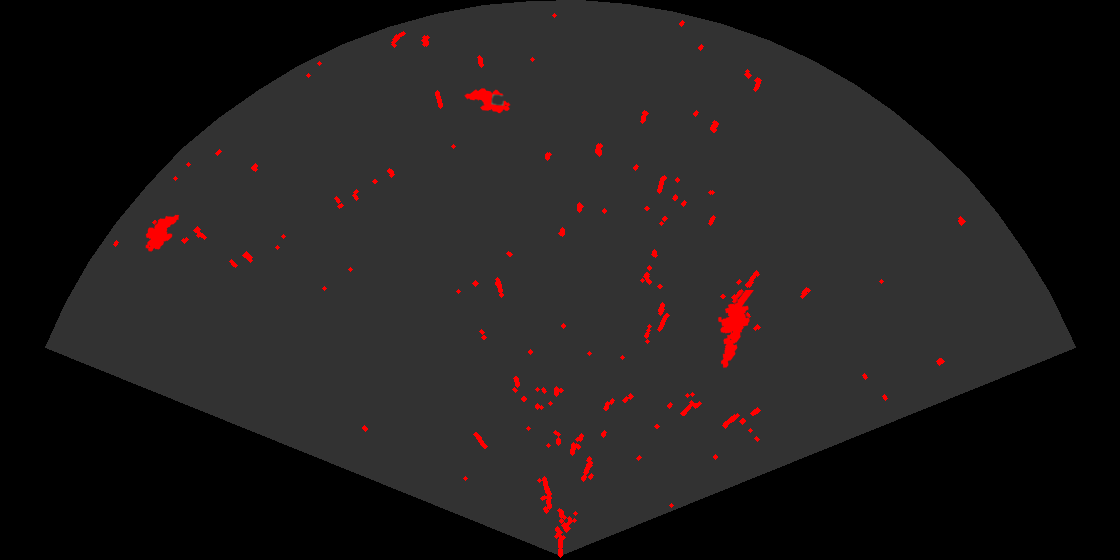AUV: (144, 213, 181, 253), (463, 87, 512, 115)
frogman: (716, 290, 755, 369)
